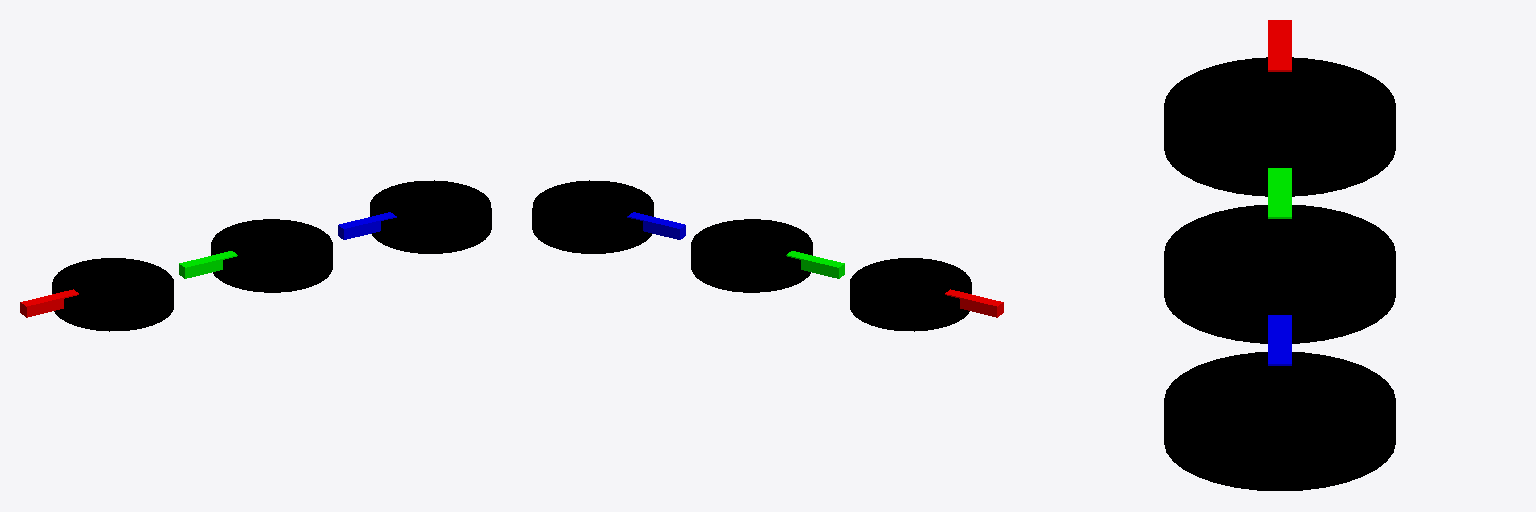
robot.urdf — motors:
<?xml version="1.0"?>
<robot name="motors">

<!--Define Materials-->
<material name="red">
    <color rgba="1 0 0 1"/>
  </material>
<material name="green">
    <color rgba="0 1 0 1"/>
  </material>
<material name="blue">
    <color rgba="0 0 1 1"/>
  </material>
  <material name="black">
    <color rgba="0 0 0 1"/>
  </material>
  <material name="white">
    <color rgba="1 1 1 1"/>
  </material>

<!--Define root to motor bases-->
<!--URDF only allows 1 root per file-->
   <link name="root">
  </link>

<!--base declarations-->
  <link name="servo_base">
    <visual>
      <geometry>    
        <cylinder length="0.1" radius="0.25"/>
      </geometry>
      <material name="black"/>
    </visual>
  </link>

  <link name="dc_motor_base">
    <visual>
      <geometry>
        <cylinder length="0.1" radius="0.25"/>
      </geometry>
      <material name="black"/>
    </visual>
  </link>

  <link name="stepper_motor_base">
    <visual>
      <geometry>
        <cylinder length="0.1" radius="0.25"/>
      </geometry>
      <material name="black"/>
    </visual>
  </link>

<!--base joint definitions-->
  <joint name="root_to_servo_motor" type="fixed">
    <axis xyz="0 0 0" />
    <parent link="root"/>
    <child link="servo_base"/>
    <origin xyz="-0.75 0 0" />
  </joint>

  <joint name="root_to_dc_motor" type="fixed">
    <axis xyz="0 0 0" />
    <parent link="root"/>
    <child link="dc_motor_base"/>
    <origin xyz="0 0 0" />
  </joint>

  <joint name="root_to_stepper_motor" type="fixed">
    <axis xyz="0 0 0" />
    <parent link="root"/>
    <child link="stepper_motor_base"/>
    <origin xyz="0.75 0 0" />
  </joint>

<!--Define motor bases to motor links-->
<!--servo-->
  <link name="servo_link">
    <visual>
      <origin rpy="0 0 0" xyz="-0.3 0 0" />
      <geometry>
        <box size="0.25 0.05 0.05"/>
      </geometry>
      <material name="red"/>
    </visual>
  </link>

  <joint name="servo_motor" type="revolute">
    <axis xyz="0 0 1" />
    <limit effort="1000" lower="0" upper="3.14" velocity="0.5" />
    <parent link="servo_base"/>
    <child link="servo_link"/>
    <origin xyz="0 0 0.03" />
  </joint>

<!--dc motor-->
    <link name="dc_motor_link">
    <visual>
      <origin rpy="0 0 0" xyz="-0.3 0 0" />
      <geometry>
        <box size="0.25 0.05 0.05"/>
      </geometry>
      <material name="green"/>
    </visual>
  </link>

  <joint name="dc_motor" type="revolute">
    <axis xyz="0 0 1" />
    <limit effort="1000" lower="-1.57" upper="1.57" velocity="0.5" />
    <parent link="dc_motor_base"/>
    <child link="dc_motor_link"/>
    <origin xyz="0 0 0.03" />
  </joint>

<!--stepper motor-->
  <link name="stepper_motor_link">
    <visual>
      <origin rpy="0 0 0" xyz="-0.3 0 0" />
      <geometry>
        <box size="0.25 0.05 0.05"/>
      </geometry>
      <material name="blue"/>
    </visual>
  </link>

  <joint name="stepper_motor" type="revolute">
    <axis xyz="0 0 1" />
    <limit effort="1000" lower="0" upper="6.28" velocity="0.5" />
    <parent link="stepper_motor_base"/>
    <child link="stepper_motor_link"/>
    <origin xyz="0 0 0.03" />
  </joint>

</robot>

--- Facts derived from the render (not from the file) ---
Views: 3 orthographic renders of the robot side by side, from view 1: azimuth 30°, elevation 25°; view 2: azimuth 150°, elevation 25°; view 3: azimuth 270°, elevation 25°.
Robot: motors — 7 links, 6 joints (3 revolute, 3 fixed); root link root; default pose: all joints at 0.
Visible links, largest first — view 1: dc_motor_base, stepper_motor_base, servo_base, dc_motor_link, servo_link, stepper_motor_link; view 2: dc_motor_base, stepper_motor_base, servo_base, dc_motor_link, servo_link, stepper_motor_link; view 3: stepper_motor_base, dc_motor_base, servo_base, servo_link, dc_motor_link, stepper_motor_link.
Boxes of the visible links, bbox=[...] form: dc_motor_base: bbox=[211, 219, 332, 292]; stepper_motor_base: bbox=[370, 180, 491, 253]; servo_base: bbox=[52, 258, 173, 331]; dc_motor_link: bbox=[179, 251, 237, 278]; servo_link: bbox=[20, 289, 78, 317]; stepper_motor_link: bbox=[338, 212, 396, 239]; dc_motor_base: bbox=[691, 219, 812, 292]; stepper_motor_base: bbox=[532, 180, 653, 253]; servo_base: bbox=[850, 258, 971, 331]; dc_motor_link: bbox=[786, 251, 844, 278]; servo_link: bbox=[945, 289, 1003, 317]; stepper_motor_link: bbox=[627, 212, 685, 239]; stepper_motor_base: bbox=[1164, 352, 1395, 490]; dc_motor_base: bbox=[1164, 205, 1395, 343]; servo_base: bbox=[1164, 57, 1395, 196]; servo_link: bbox=[1268, 20, 1291, 71]; dc_motor_link: bbox=[1268, 168, 1291, 218]; stepper_motor_link: bbox=[1268, 315, 1291, 365].
Size in the robot's own frame: 2.17 by 0.5 by 0.105 metres.
Geometry: primitives only (box / cylinder / sphere), no mesh files.